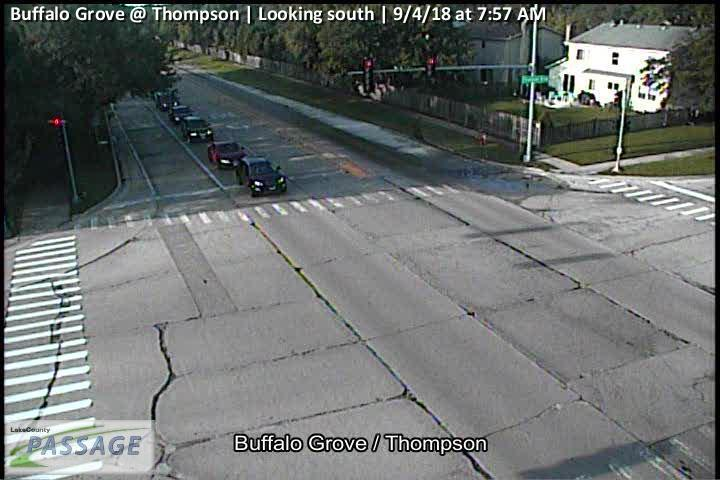SUV: (234, 157, 288, 198), (182, 116, 213, 143), (153, 89, 179, 111), (168, 104, 190, 123)
Sedan: (207, 139, 246, 169)
